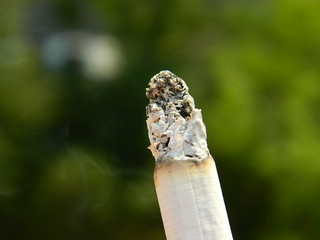cigarette: (140, 66, 236, 239)
